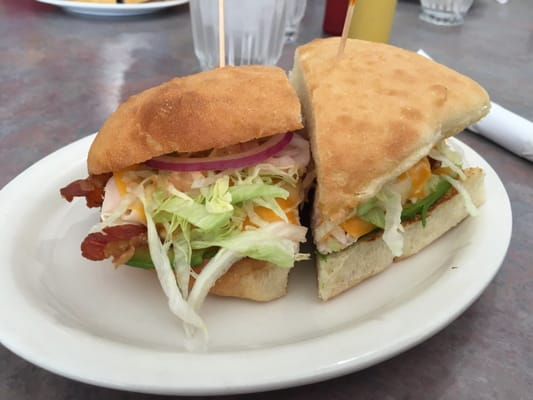sandwich: (76, 23, 518, 331)
